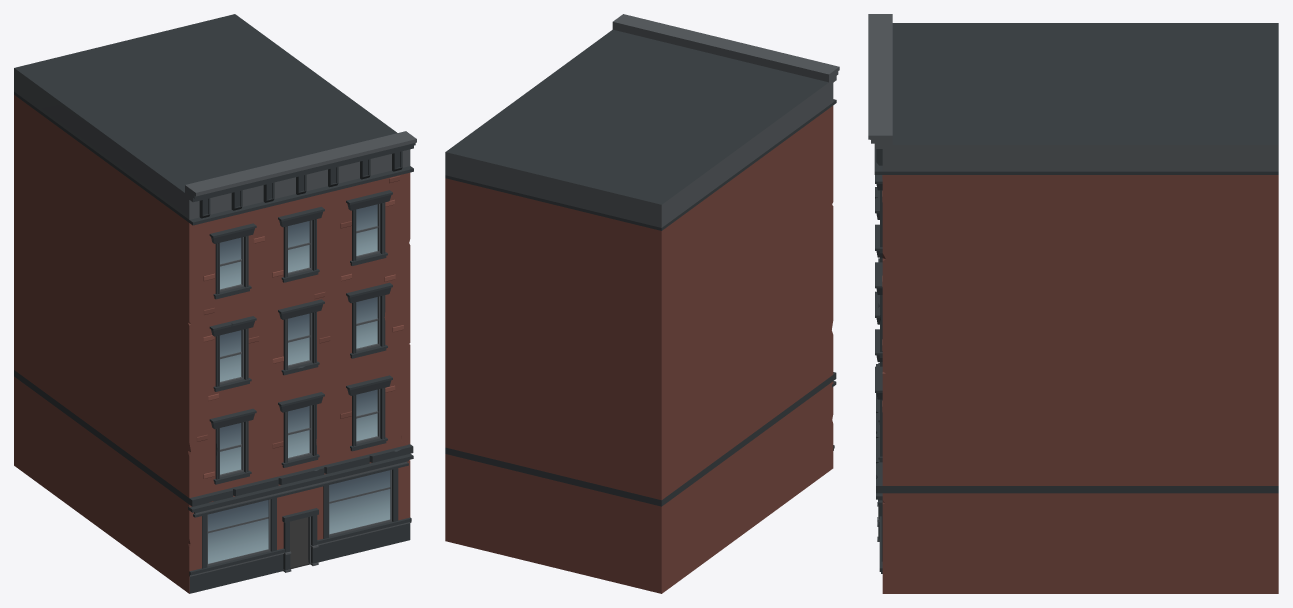
The model's file is SM_Buildings_House_13_V2.fbx.
3 renders of one model, left to right at view 1: azimuth 30°, elevation 25°; view 2: azimuth 150°, elevation 25°; view 3: azimuth 270°, elevation 25°, orthographic. The views are drawn at different scales.
Visible parts, largest first — view 1: SM_Buildings_House_13_V2; view 2: SM_Buildings_House_13_V2; view 3: SM_Buildings_House_13_V2.
Part boxes in pixels (bbox=[...]): SM_Buildings_House_13_V2: bbox=[14, 14, 416, 593]; SM_Buildings_House_13_V2: bbox=[445, 14, 839, 593]; SM_Buildings_House_13_V2: bbox=[868, 14, 1278, 593].
Size of the model in its own units: 9.98 by 17.5 by 14.21.
